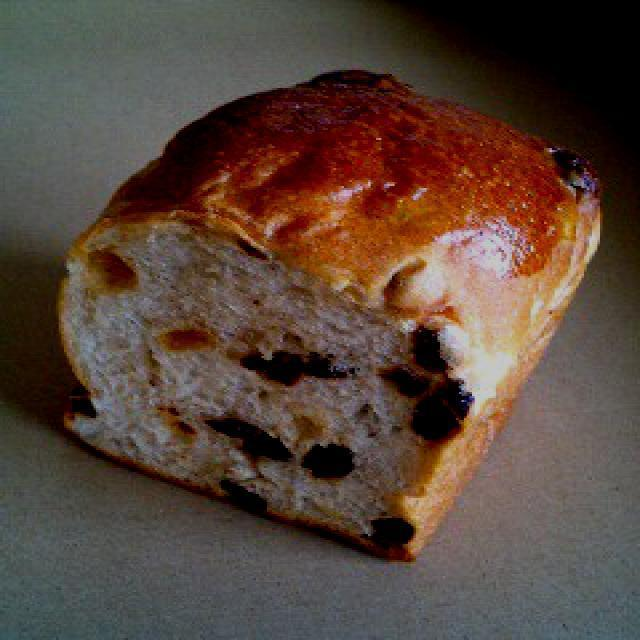raisin-bread: (53, 56, 603, 548)
